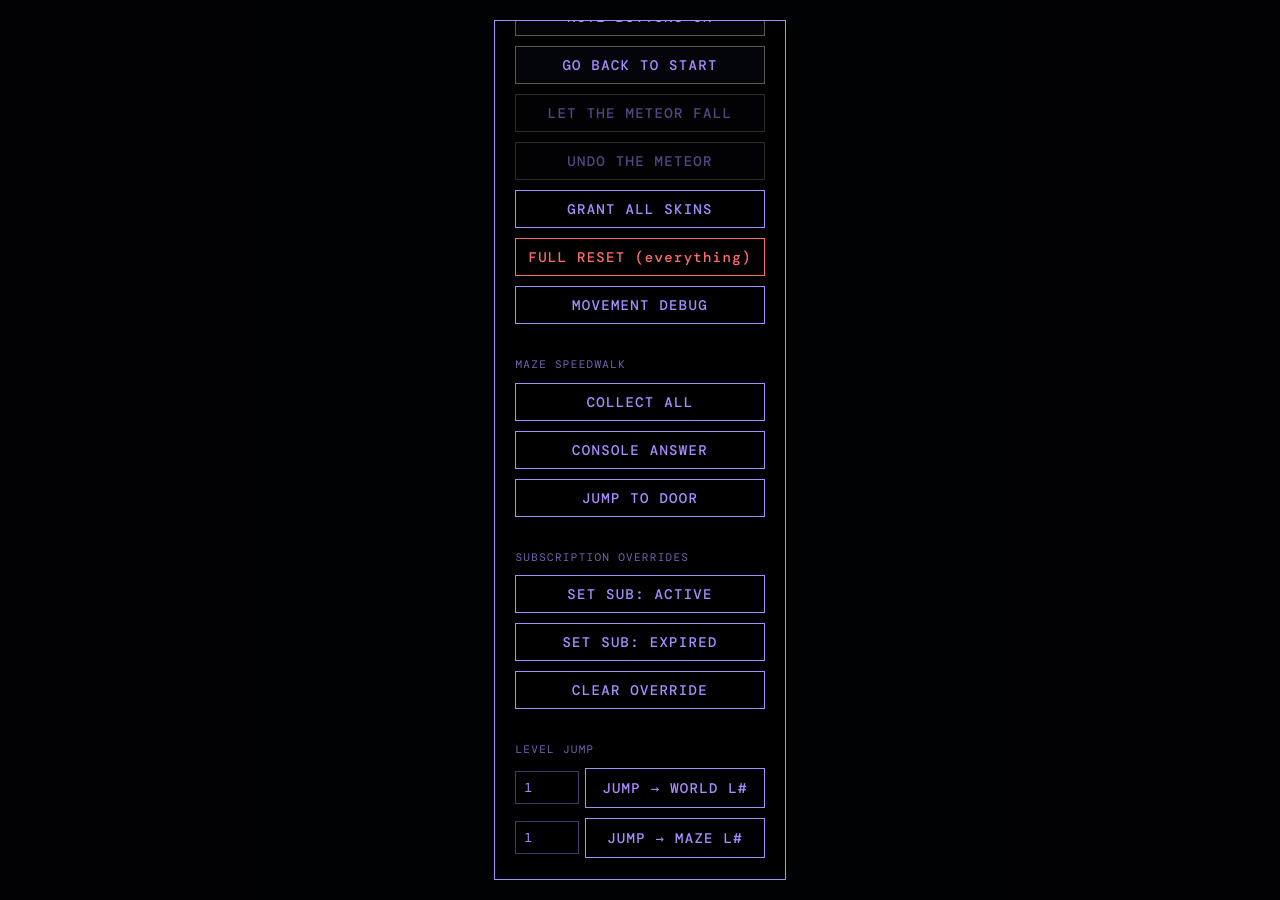
maze speedwalk tools › console answer shows signed primes summing to the target
The width and height of the screenshot is (1280, 900).
(page scrolled)
Click the button "CONSOLE ANSWER".
click(640, 450)  # box [515,430,764,468]
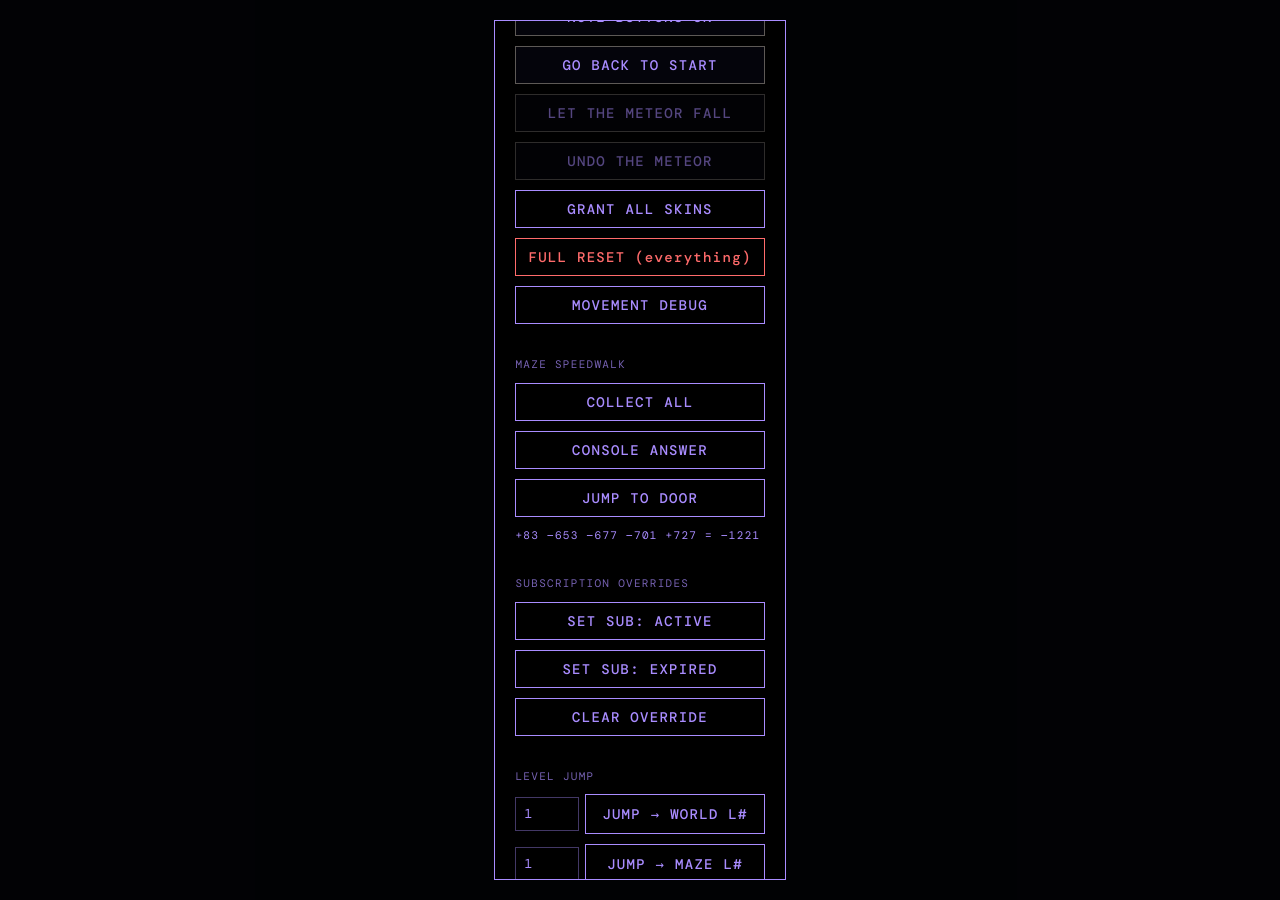
Check: the text with test id "dev-maze-note" reads "+83 −653 −677 −701 +727 = −1221", box [515,528,760,542]
